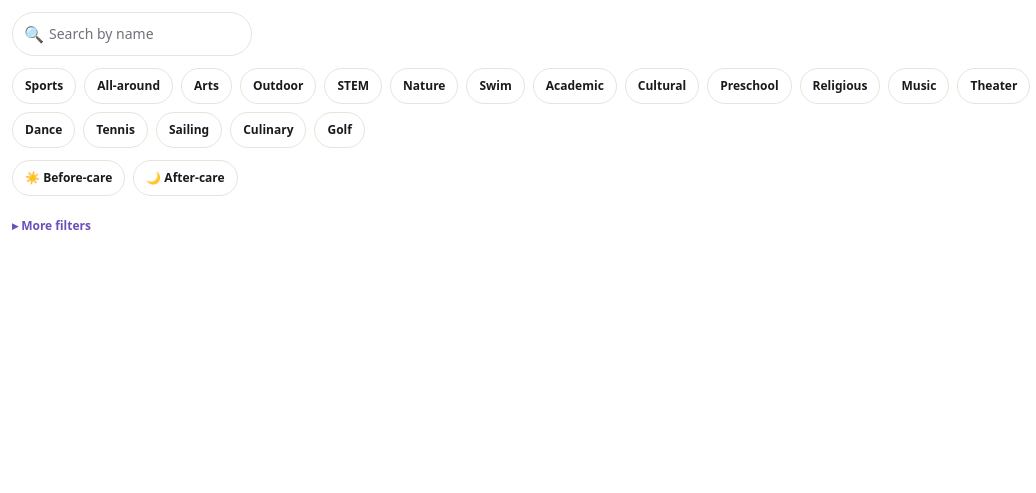
Test: CampsFilterBar › exposes the advanced drawer with ages + price + neighborhoods
The image size is (1036, 493).
Click the button "▸ More filters": (52, 226) [12,208,91,244]
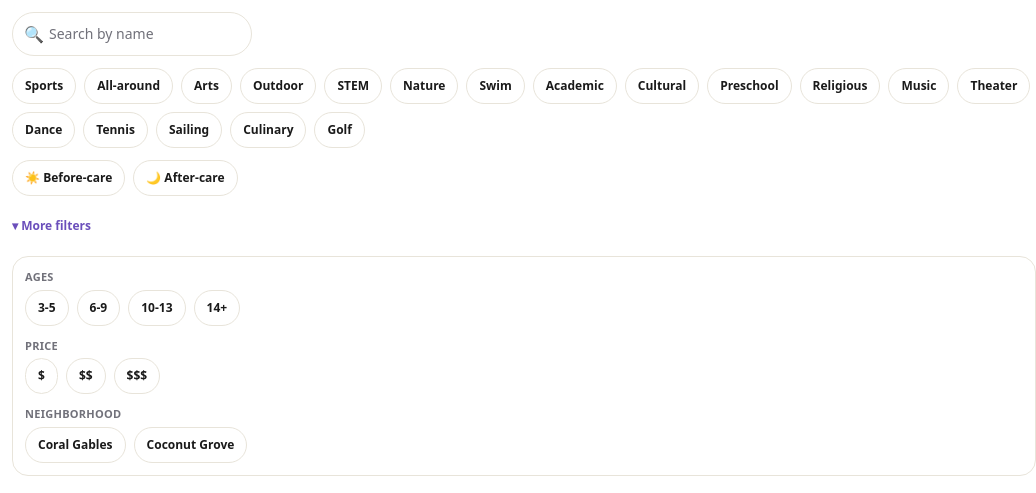
Expected: the text "Ages" is shown, [25,269,54,284]
Expected: the text "Price" is shown, [25,338,58,352]
Expected: the button "Coral Gables" is shown, [25,426,126,462]
